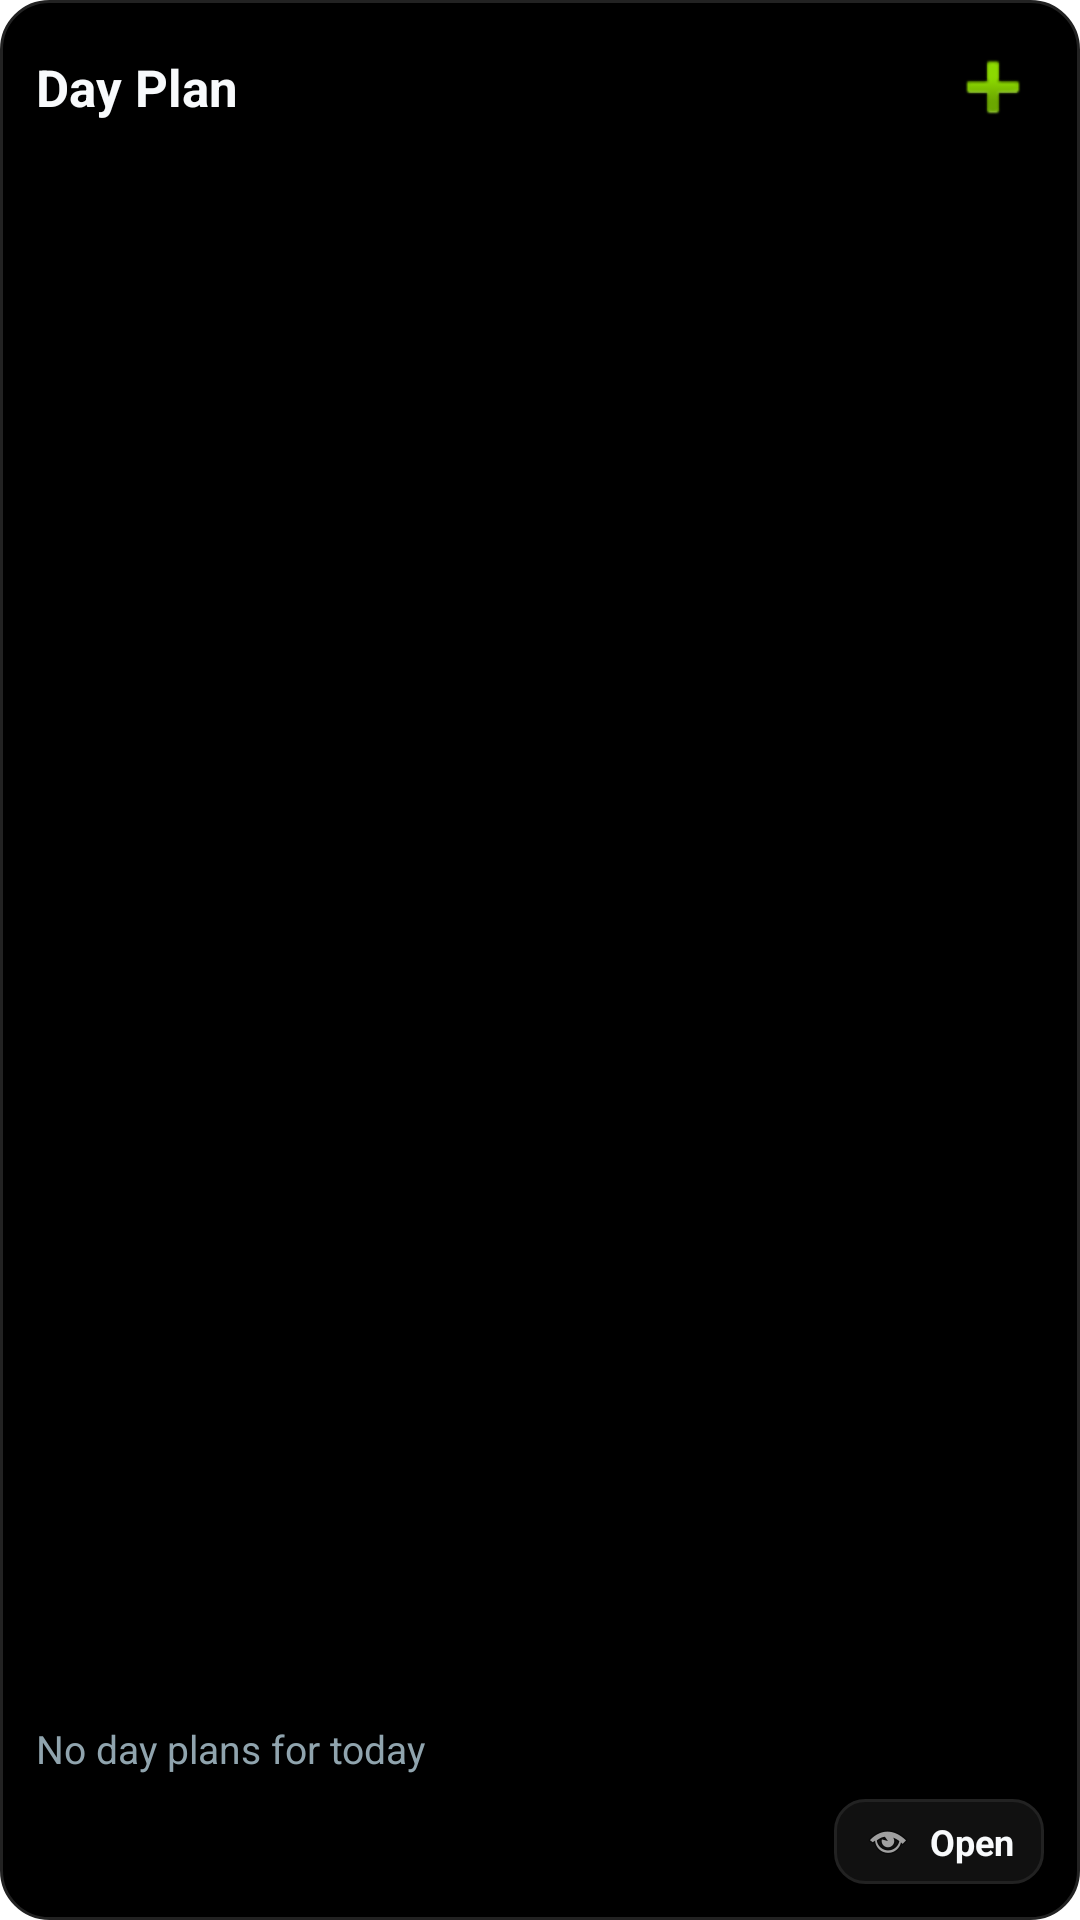

Where icons sit on this 1080x1920 app screen, as {"x1": x1, "y1": y1, "x2": x2, "y2": y2}:
Add task: {"x1": 966, "y1": 60, "x2": 1020, "y2": 114}
